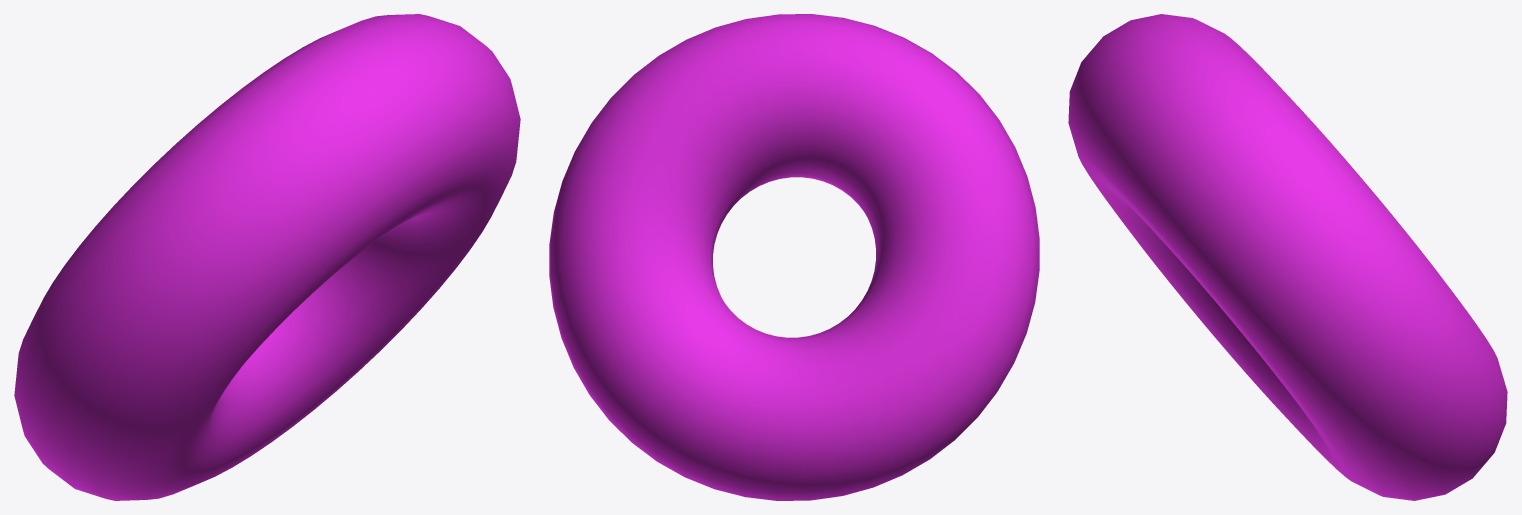
3 renders of one model, left to right at view 1: azimuth 30°, elevation 25°; view 2: azimuth 150°, elevation 25°; view 3: azimuth 270°, elevation 25°, orthographic. The views are drawn at different scales.
Visible parts, largest first — view 1: Torus; view 2: Torus; view 3: Torus.
Boxes of the visible parts, bbox=[...] form: Torus: bbox=[14, 14, 520, 500]; Torus: bbox=[549, 14, 1039, 500]; Torus: bbox=[1068, 14, 1507, 500].
Size of the model in its own units: 2.89 by 2.66 by 2.28.
